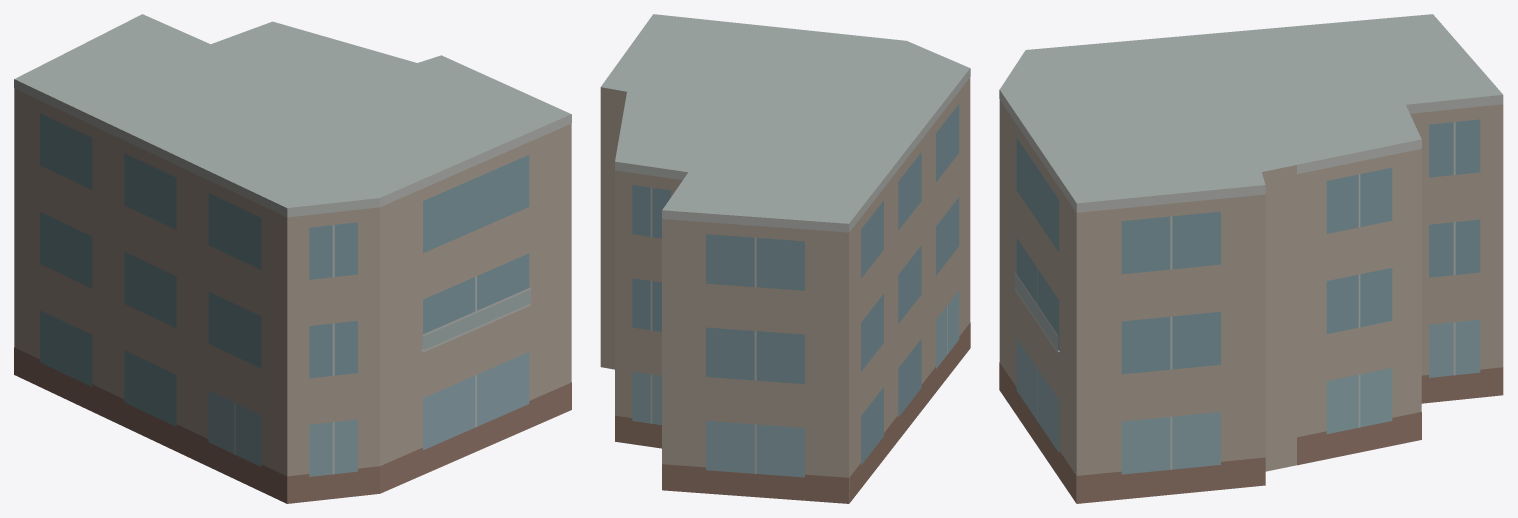
Rendered from survey-upis-32490486.glb.
The picture shows the model from 3 angles, left to right: view 1: azimuth 30°, elevation 25°; view 2: azimuth 150°, elevation 25°; view 3: azimuth 270°, elevation 25°; orthographic projection. The views are drawn at different scales.
Parts seen in each view (by area): view 1: survey-upis-32490486.tmp; view 2: survey-upis-32490486.tmp; view 3: survey-upis-32490486.tmp.
Boxes of the visible parts, x1,y1,x2,y2 form: survey-upis-32490486.tmp: (14, 14, 571, 503); survey-upis-32490486.tmp: (600, 14, 970, 503); survey-upis-32490486.tmp: (999, 14, 1503, 503).
Bounding box in the file's own units: 10.56 × 7.8 × 11.87.
